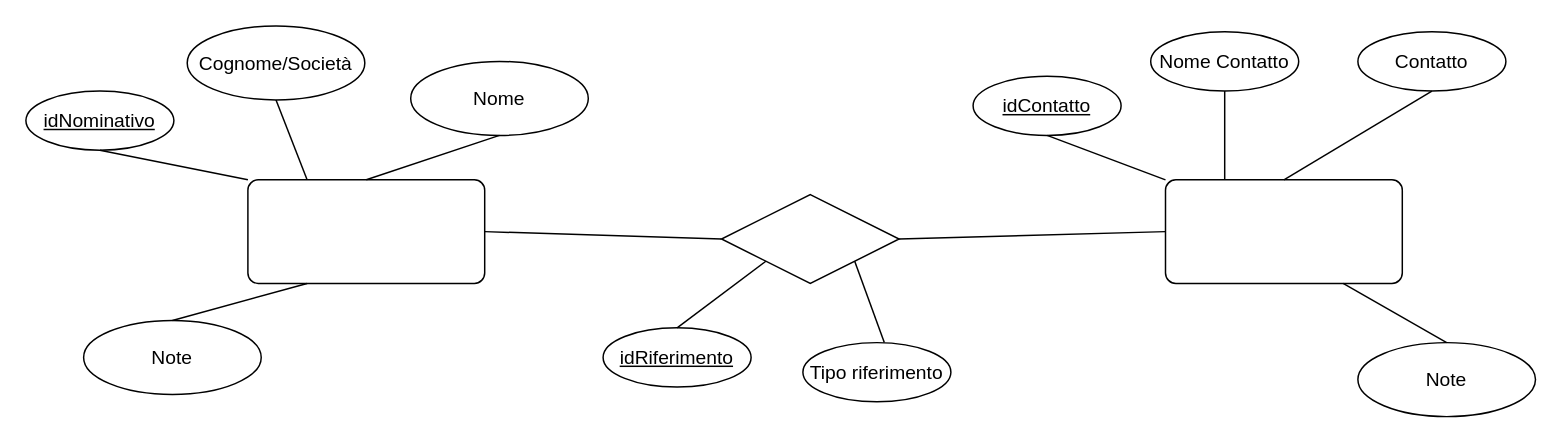
Some shapes in this 1561 by 443 pixel diagram are drawn without their labels. The box of each missing label's shape, as (x1, y1, x2, y2) in pixels:
Contatti: (1164, 178, 1402, 283)
Nominativo: (246, 178, 485, 283)
Riferimenti: (720, 193, 899, 283)
